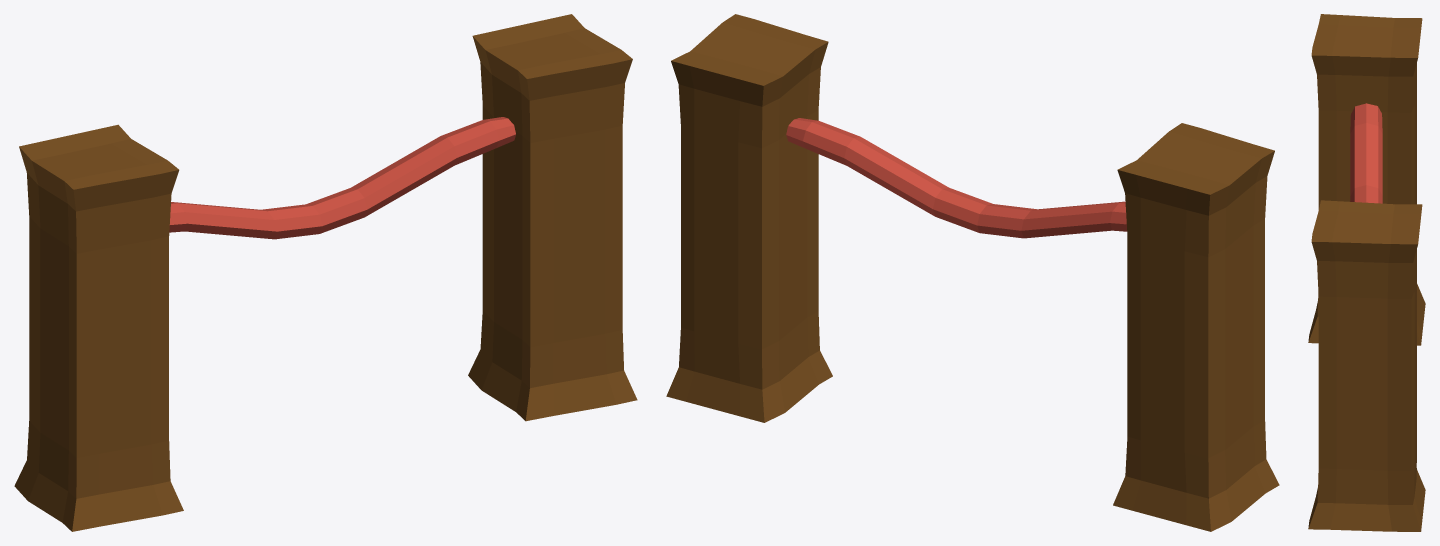
File: gate.fbx
3 views of the same model, side by side, from view 1: azimuth 30°, elevation 25°; view 2: azimuth 150°, elevation 25°; view 3: azimuth 270°, elevation 25° (orthographic). The views are drawn at different scales.
Parts seen in each view (by area): view 1: Cube.043; view 2: Cube.043; view 3: Cube.043.
Boxes of the visible parts, bbox=[...] form: Cube.043: bbox=[14, 14, 637, 531]; Cube.043: bbox=[666, 14, 1279, 531]; Cube.043: bbox=[1308, 14, 1425, 531].
Size of the model in its own units: 383 by 224 by 82.23.
